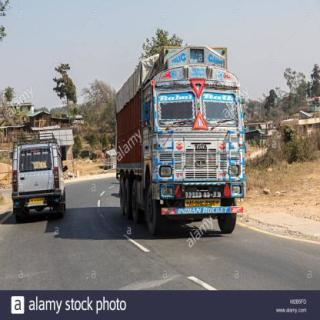Normal_vehicle: (110, 39, 248, 243)
